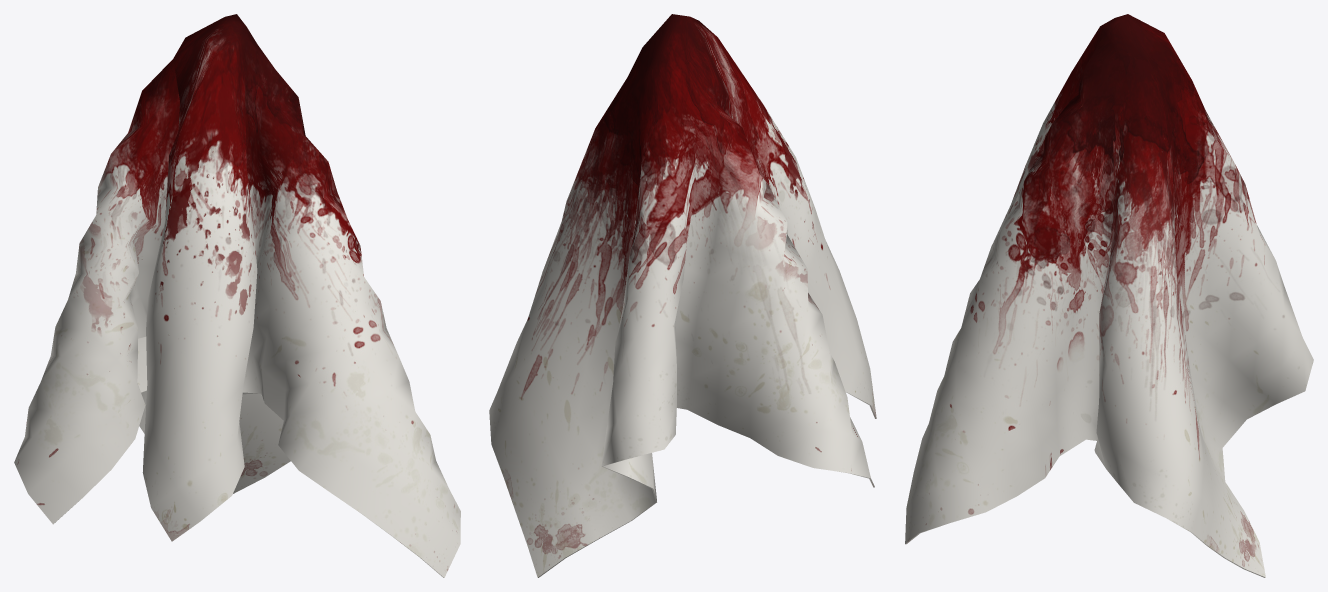
The model's file is bloody_rag.glb.
3 renders of one model, left to right at view 1: azimuth 30°, elevation 25°; view 2: azimuth 150°, elevation 25°; view 3: azimuth 270°, elevation 25°, orthographic. The views are drawn at different scales.
Parts seen in each view (by area): view 1: Clue_BloodRag:pPlane1; view 2: Clue_BloodRag:pPlane1; view 3: Clue_BloodRag:pPlane1.
Part boxes in pixels (x1,y1,x2,y2): Clue_BloodRag:pPlane1: (14, 14, 460, 577); Clue_BloodRag:pPlane1: (489, 14, 876, 577); Clue_BloodRag:pPlane1: (905, 14, 1313, 577).
Bounding box in the file's own units: 2.61 × 3.63 × 2.55.
1 material, 1 textured.
